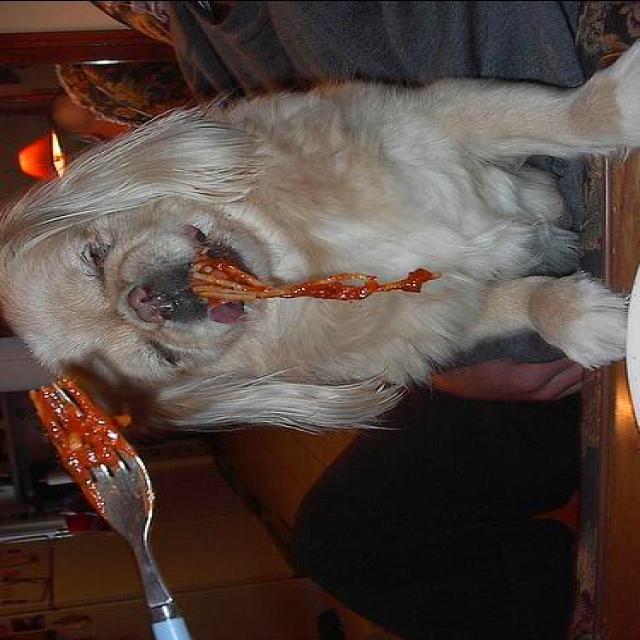pekinese: (0, 49, 638, 436)
